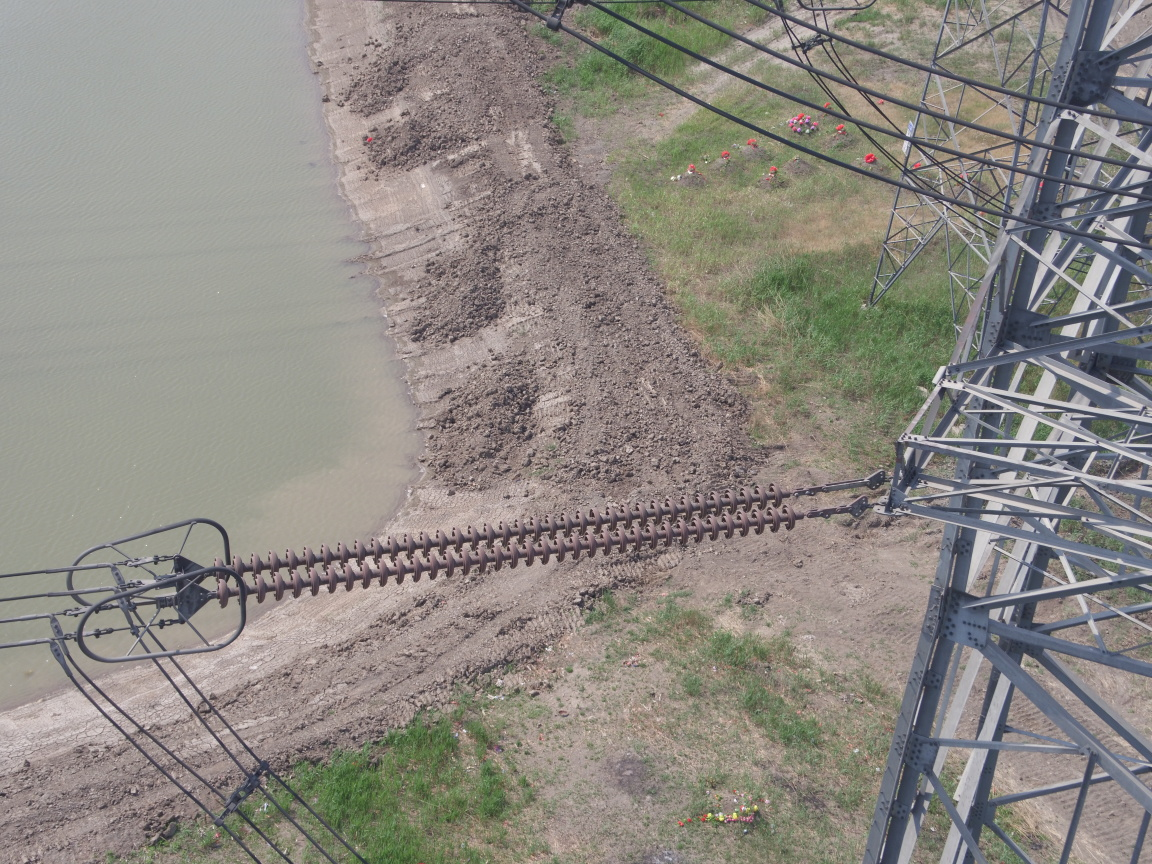insulator: (201, 480, 824, 609)
